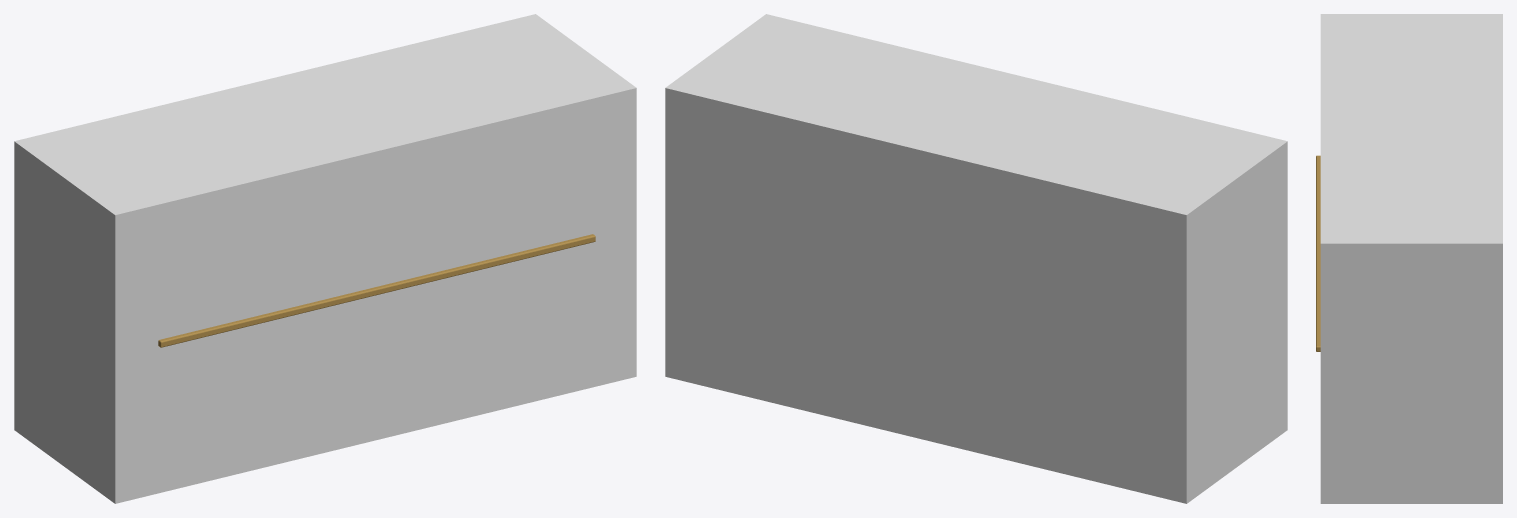
Rendered from bench_luxury.glb.
3 views of the same model, side by side, from view 1: azimuth 30°, elevation 25°; view 2: azimuth 150°, elevation 25°; view 3: azimuth 270°, elevation 25° (orthographic). The views are drawn at different scales.
Parts seen in each view (by area): view 1: COL_bench, MESH_TierTrim_01; view 2: COL_bench; view 3: COL_bench, MESH_TierTrim_01.
Part boxes in pixels (left/top/right/bottom): COL_bench: left=14, top=14, right=636, bottom=503; MESH_TierTrim_01: left=158, top=234, right=595, bottom=347; COL_bench: left=665, top=14, right=1287, bottom=503; COL_bench: left=1320, top=14, right=1502, bottom=503; MESH_TierTrim_01: left=1316, top=155, right=1320, bottom=351.
Bounding box in the file's own units: 1.55 × 0.82 × 0.533.
